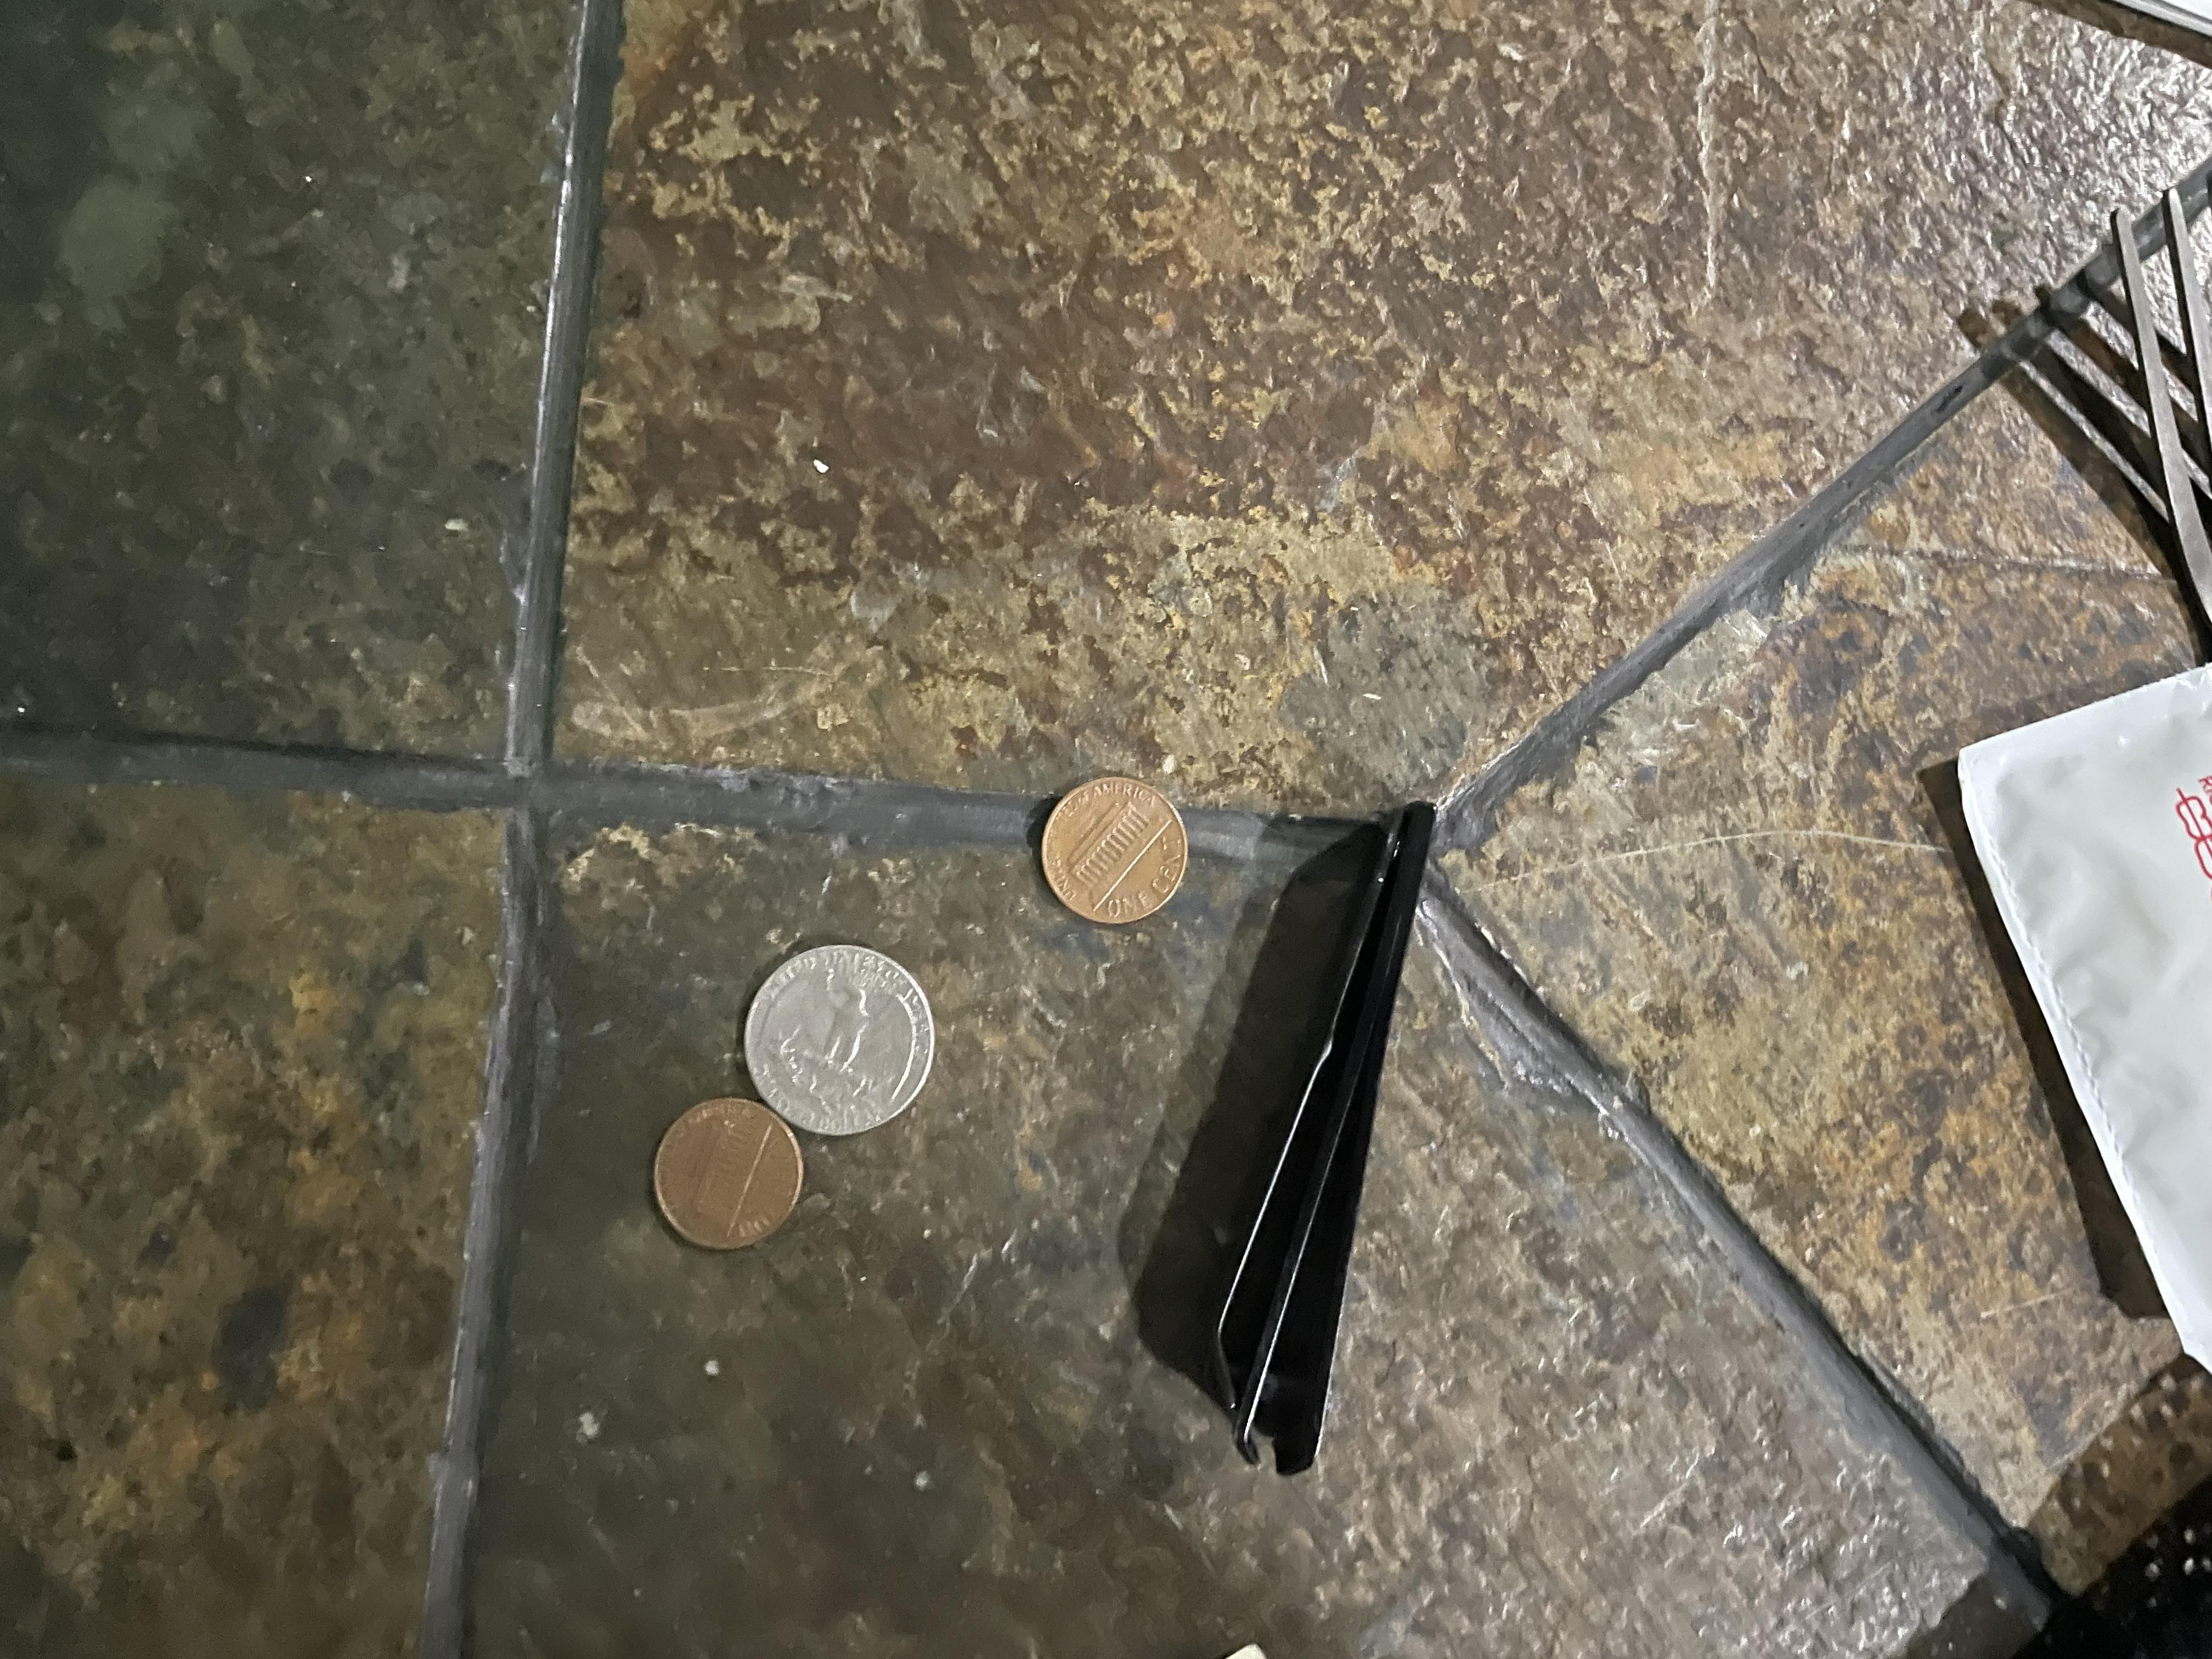Penny: (1024, 756, 1211, 934), (634, 1094, 810, 1272)
Quarter: (742, 911, 946, 1145)
